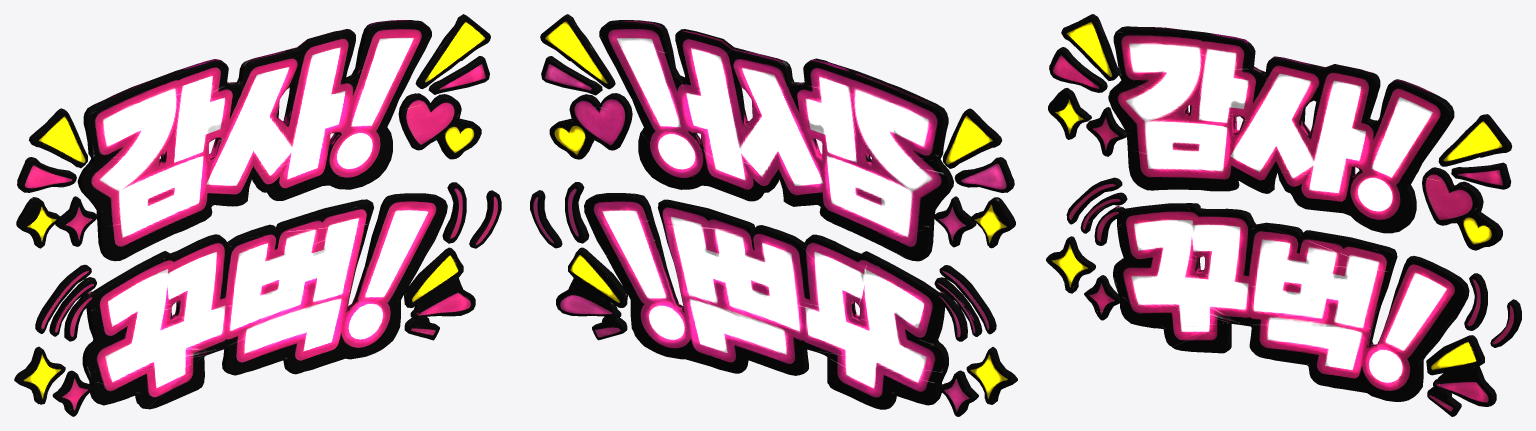
Rendered from text-thankyou-ani.glb.
3 renders of one model, left to right at view 1: azimuth 30°, elevation 25°; view 2: azimuth 150°, elevation 25°; view 3: azimuth 330°, elevation 25°, orthographic. The views are drawn at different scales.
Parts seen in each view (by area): view 1: Mesh_0.004; view 2: Mesh_0.004; view 3: Mesh_0.004.
Part boxes in pixels (x1,y1,x2,y2): Mesh_0.004: [14, 14, 501, 416]; Mesh_0.004: [530, 14, 1017, 416]; Mesh_0.004: [1046, 14, 1521, 416].
Size of the model in its own units: 1.9 by 1.25 by 0.0352.
Materials: 1 (1 with a texture image).
